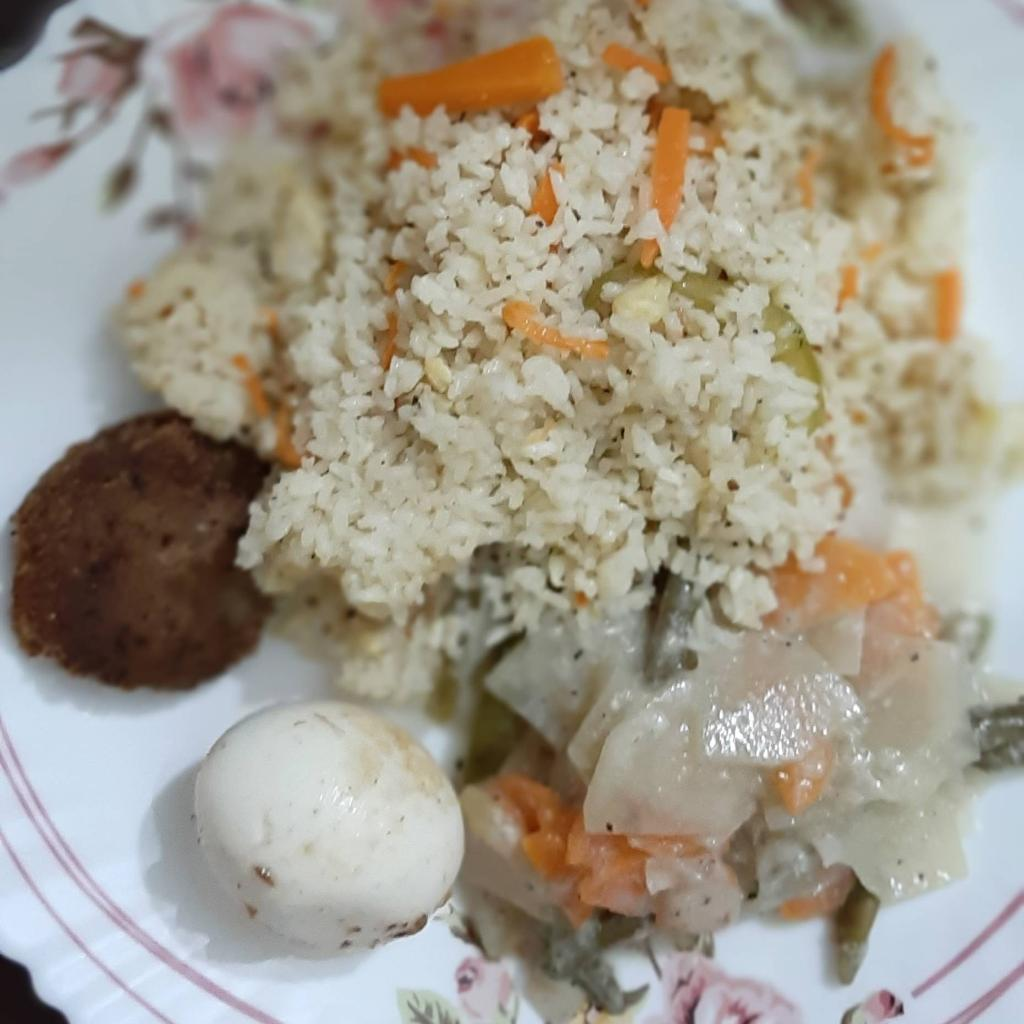biriyani: (110, 1, 1010, 704)
egg-boiled: (195, 703, 469, 947)
kabab: (4, 413, 270, 700)
vegetable: (464, 550, 1007, 1007)
